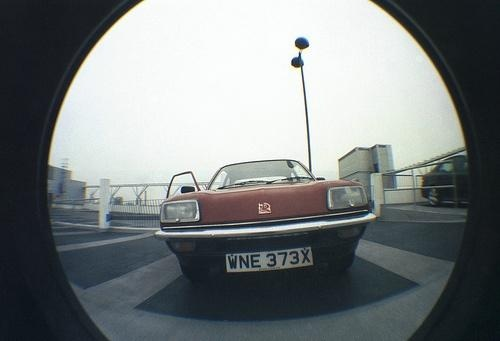car: (160, 159, 369, 279), (422, 152, 469, 207)
